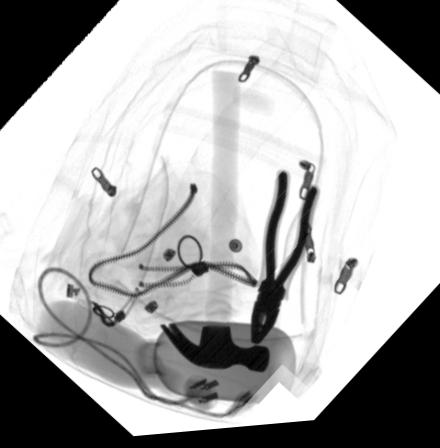Hammer: (157, 74, 268, 377)
Pliers: (249, 177, 318, 348)
